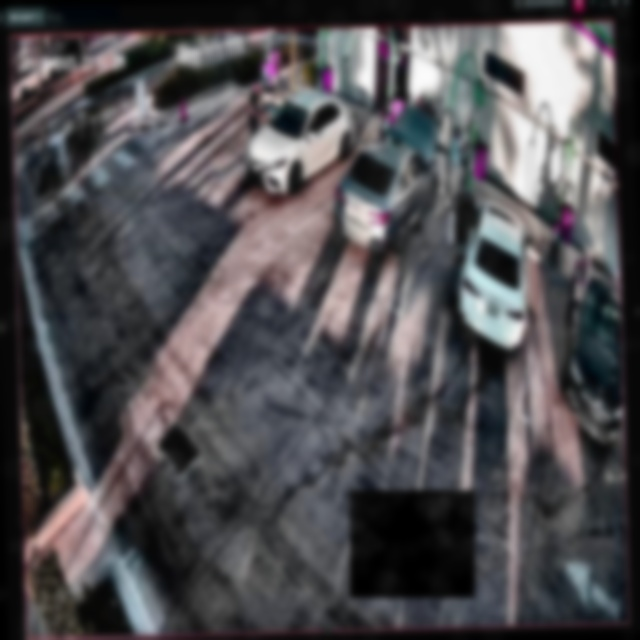Car: (329, 114, 441, 255), (241, 86, 360, 191), (454, 188, 528, 353)
